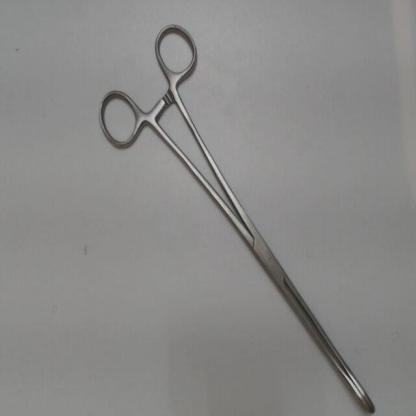Sponge Forceps: (93, 17, 383, 415)
